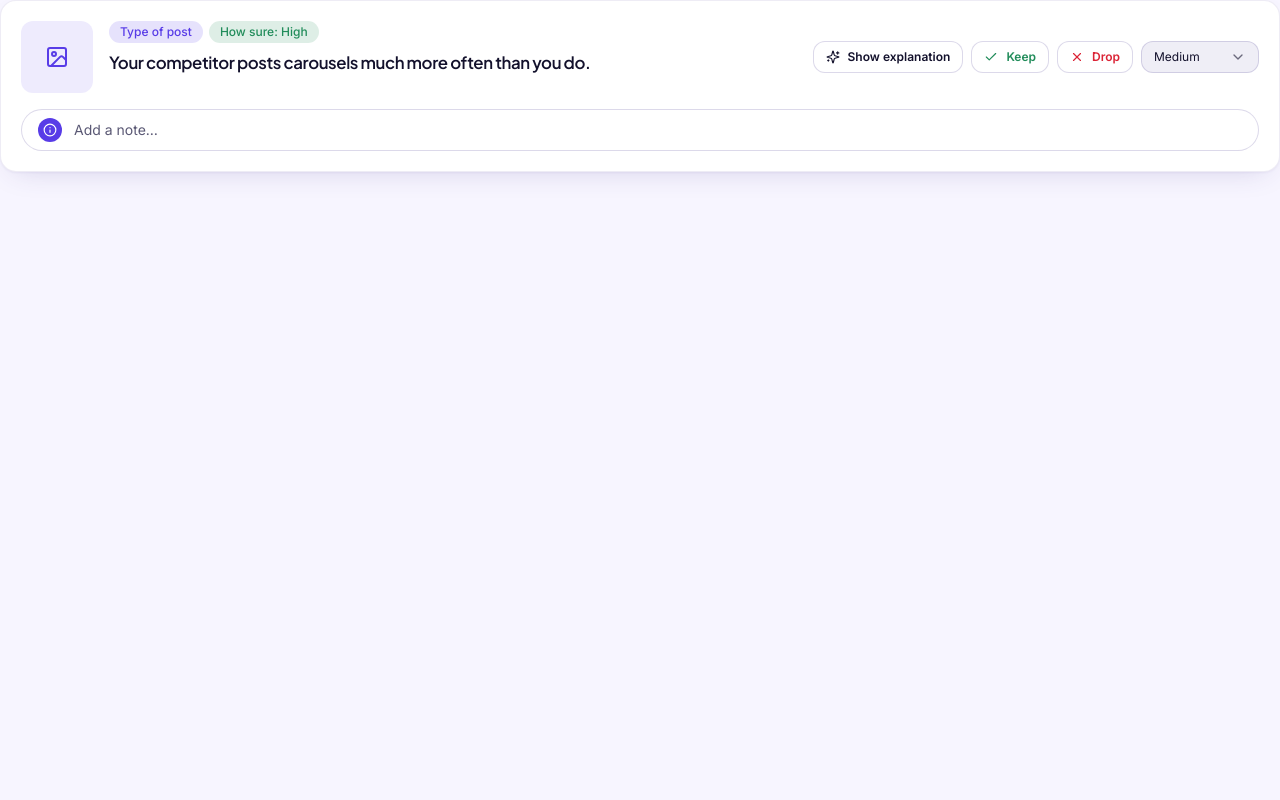
Scenario: GapCard in plain words › shows a saved explanation: the key insight, why it can matter (with its source), you vs competitor and the posts
This screenshot has width=1280, height=800.
Expected: the text "Key insight" is not shown
Click the button "Show explanation" at (888, 57), box [812,41,963,73]
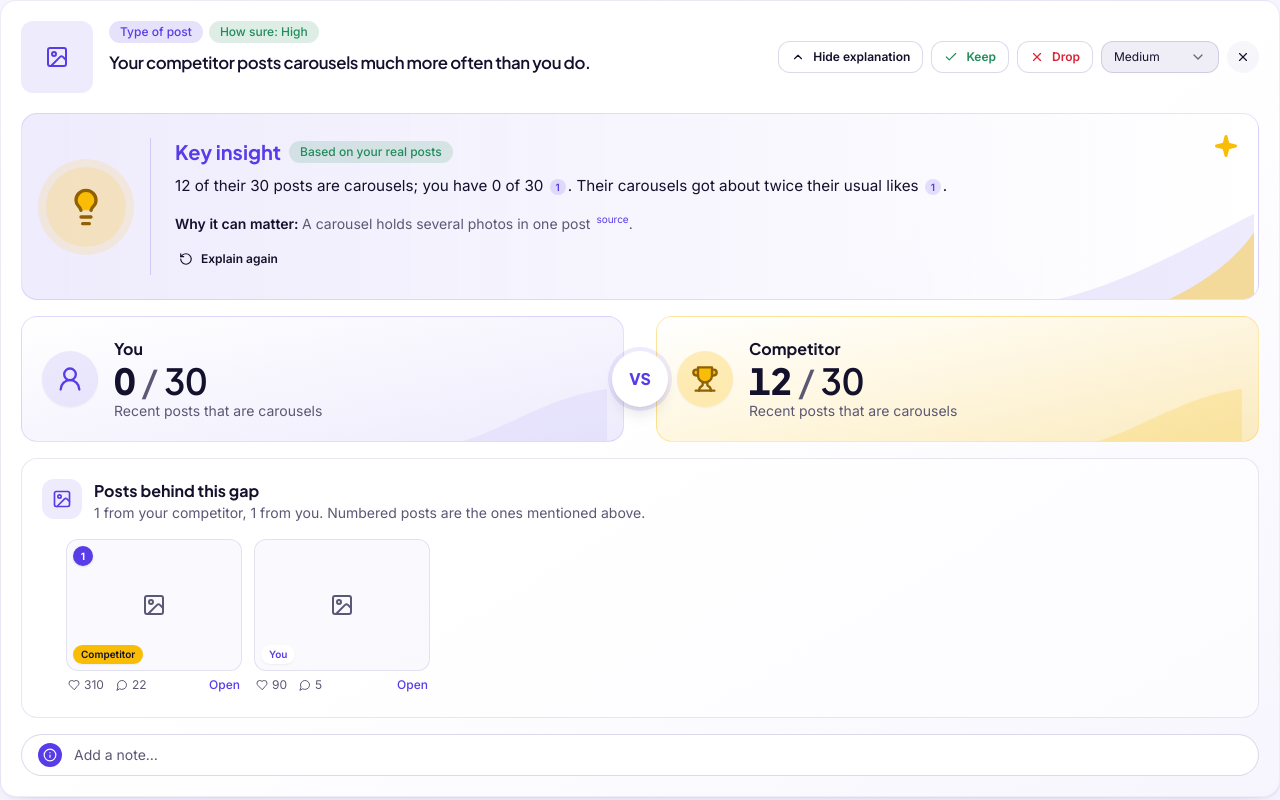
Now the text "Key insight" is shown, box [175,138,281,166]
Now the text "12 of their 30 posts are carousels; you have 0 of 30" is shown, box [175,176,548,195]
Now the text "Their carousels got about twice their usual likes" is shown, box [576,176,923,195]
